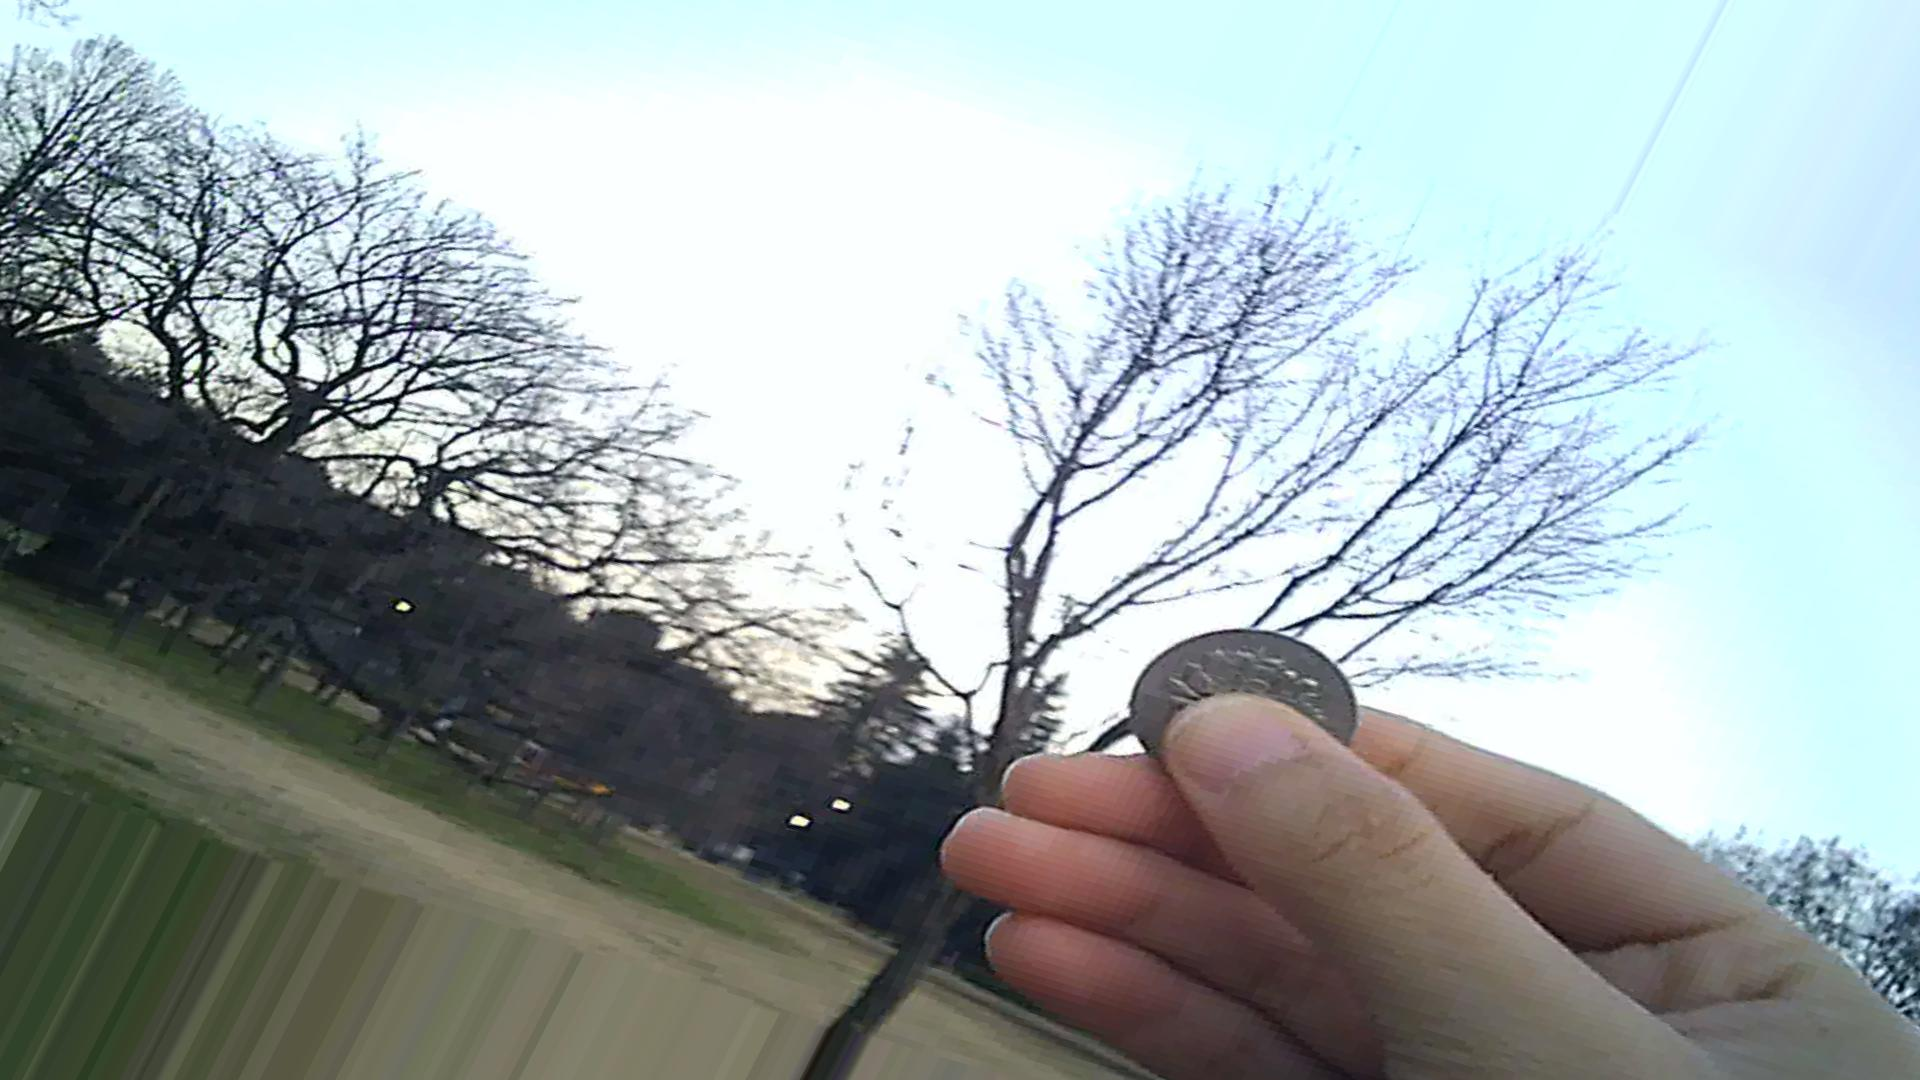100 Yen: (1124, 624, 1375, 787)
